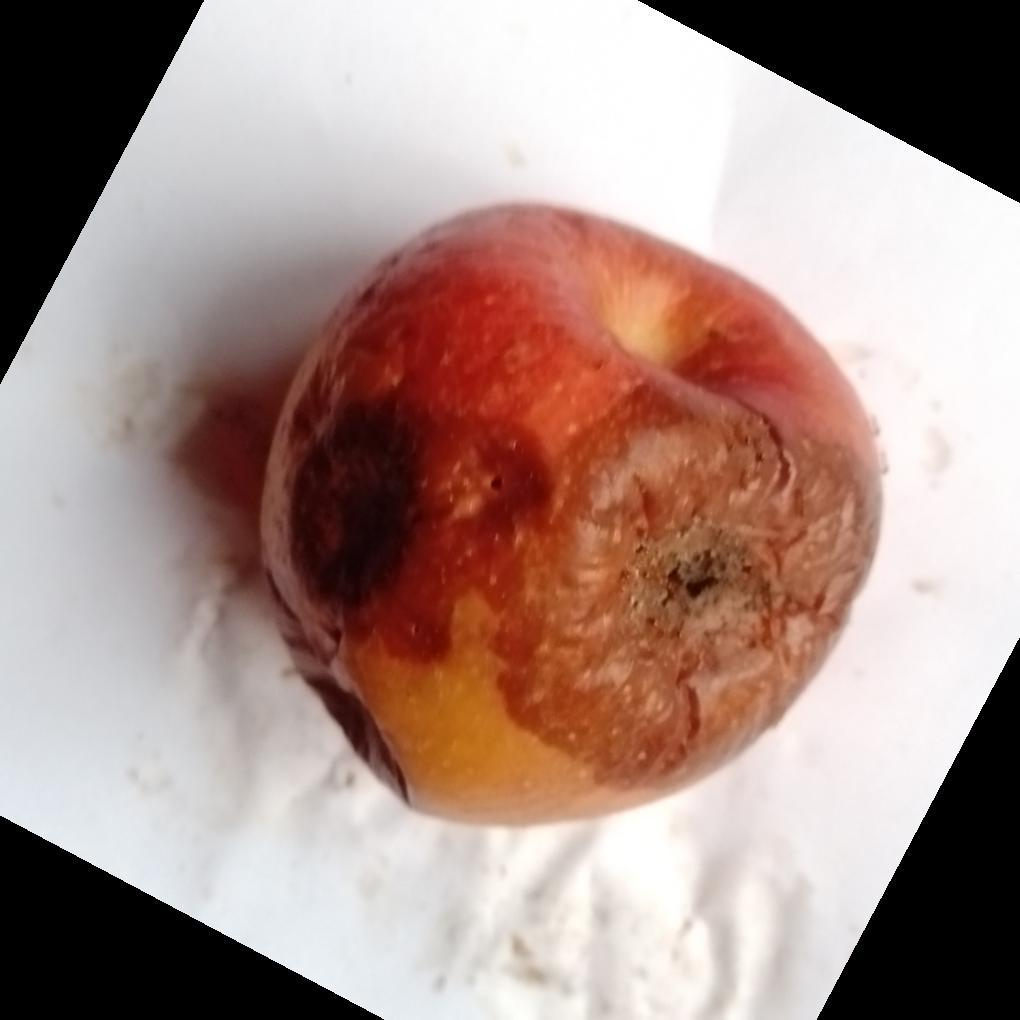FreshOrange: (254, 202, 884, 832)
